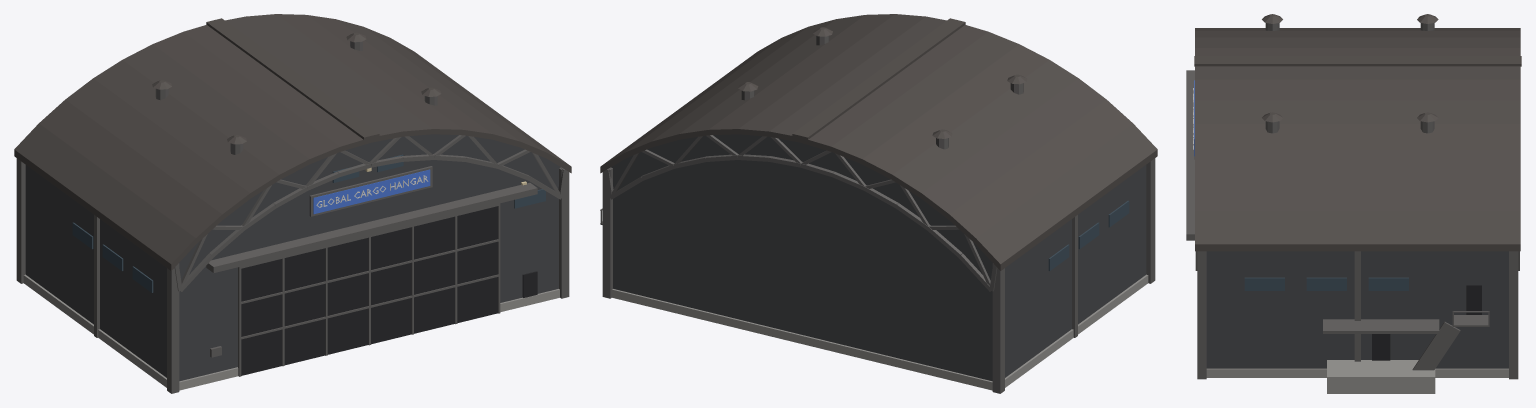
The model's file is hangar_cargo.glb.
3 renders of one model, left to right at view 1: azimuth 30°, elevation 25°; view 2: azimuth 150°, elevation 25°; view 3: azimuth 270°, elevation 25°, orthographic. The views are drawn at different scales.
Parts seen in each view (by area): view 1: hangar_cargo; view 2: hangar_cargo; view 3: hangar_cargo.
Part boxes in pixels (x1,y1,x2,y2): hangar_cargo: (14, 14, 571, 393); hangar_cargo: (600, 14, 1157, 393); hangar_cargo: (1186, 14, 1521, 393).
Size of the model in its own units: 33.05 by 15.86 by 21.6.
